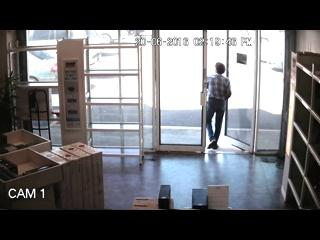Normal: (205, 62, 232, 150)
